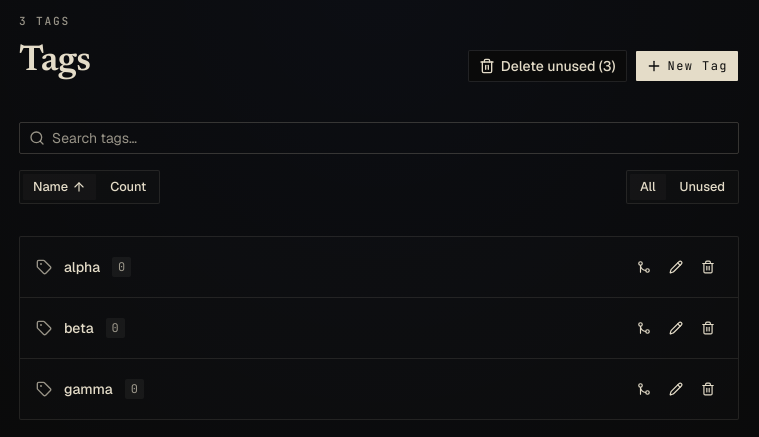
Test case: TagsPage › filters tags by search query
Type "alp" into the search field with test id "tags-search" at (379, 138), box [19,122,739,154]
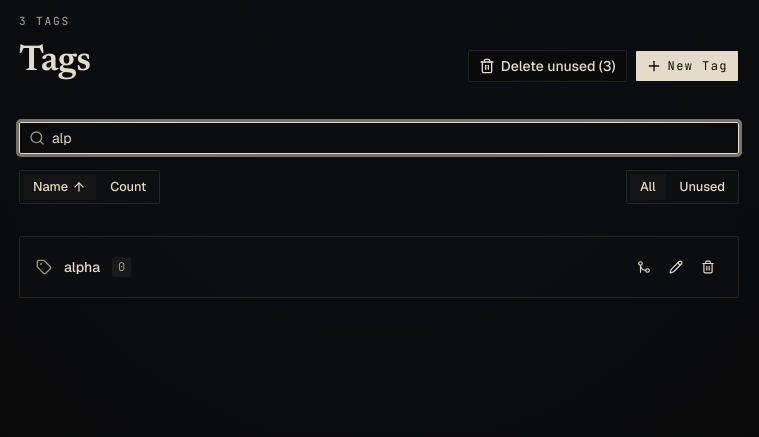
Expected: the text "alpha" is shown, [64,257,100,277]
Expected: the number of list items with test id "tag-row" is 1, [36,253,722,281]
Expected: the text "beta" is gone
